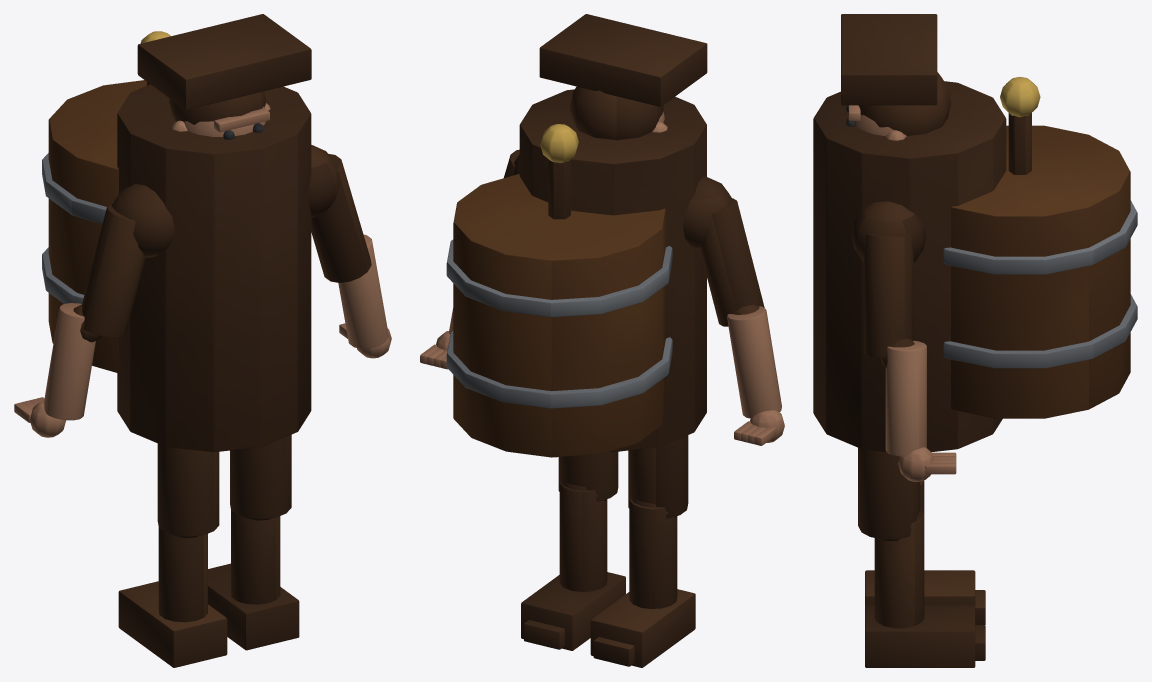
File: unit_freetown_improvised_explosive.fbx
The picture shows the model from 3 angles, left to right: view 1: azimuth 30°, elevation 25°; view 2: azimuth 150°, elevation 25°; view 3: azimuth 270°, elevation 25°; orthographic projection. The views are drawn at different scales.
Visible parts, largest first — view 1: unit_freetown_improvised_explosive; view 2: unit_freetown_improvised_explosive; view 3: unit_freetown_improvised_explosive.
Boxes of the visible parts, <box> form: unit_freetown_improvised_explosive: <box>14,14,391,667</box>; unit_freetown_improvised_explosive: <box>420,14,784,667</box>; unit_freetown_improvised_explosive: <box>813,14,1137,667</box>.
Bounding box in the file's own units: 1.18 × 1.9 × 0.9393.
